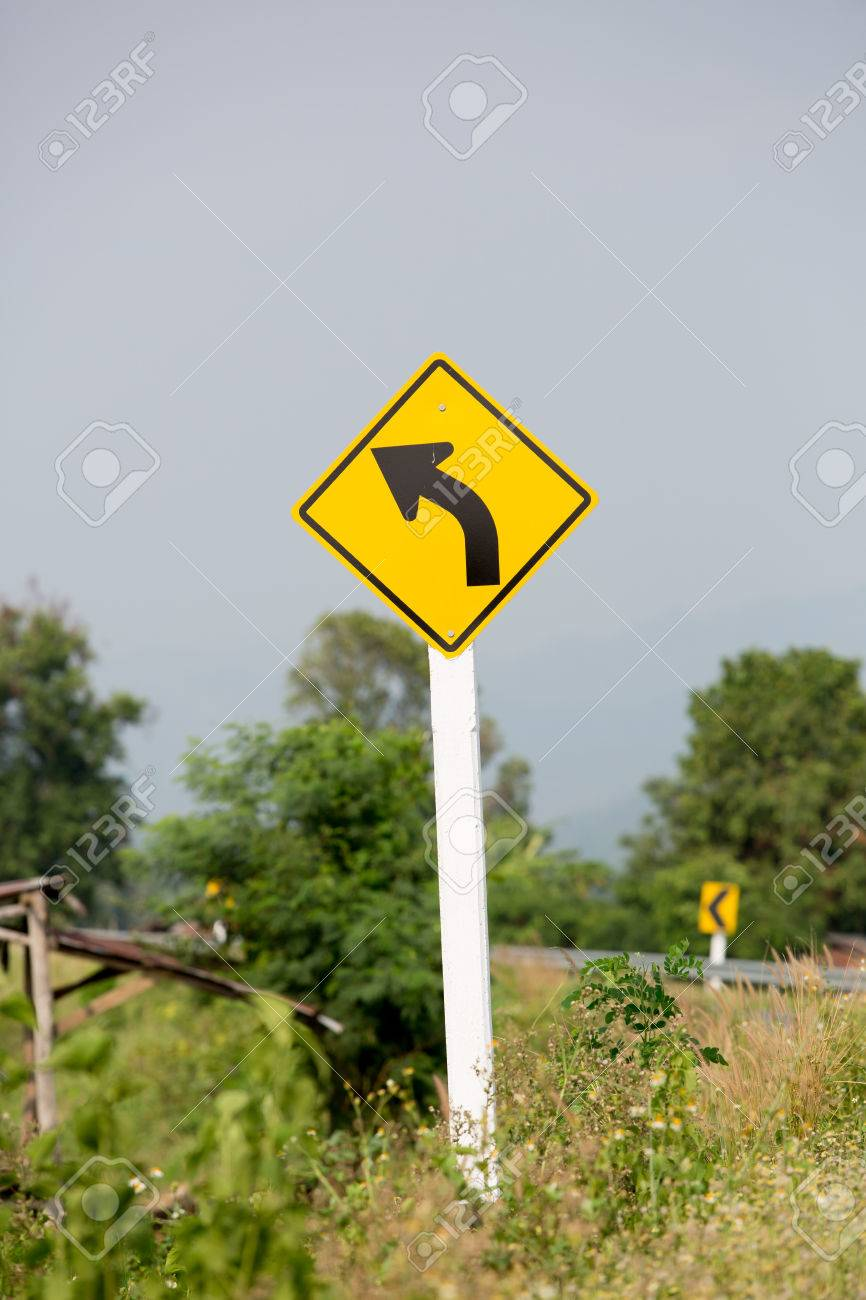left: (284, 346, 602, 659)
